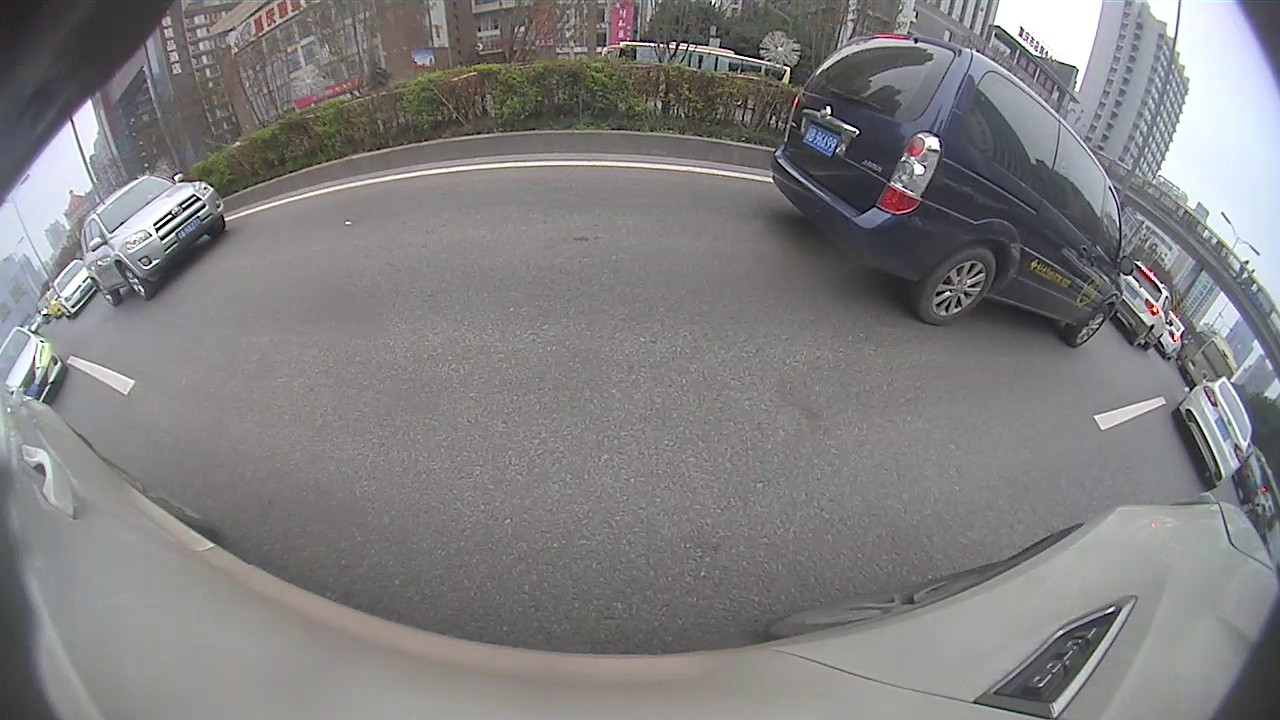car: (770, 32, 1136, 348), (78, 176, 228, 306), (1172, 374, 1253, 491)
front: (1069, 304, 1113, 347), (115, 263, 151, 302)
rear: (918, 246, 997, 323)
